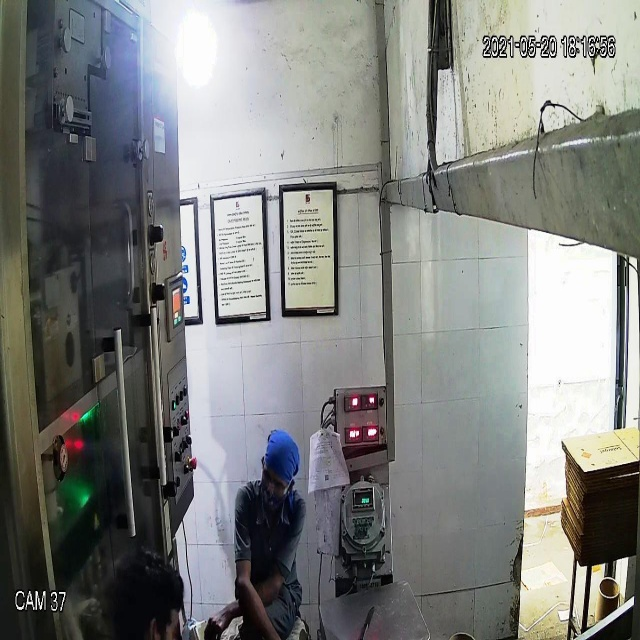Gafas: (258, 468, 294, 498)
